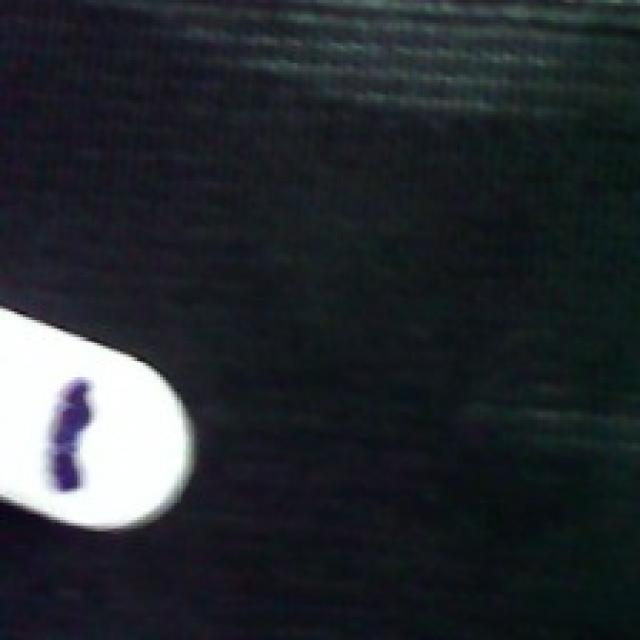defected: (0, 312, 203, 537)
